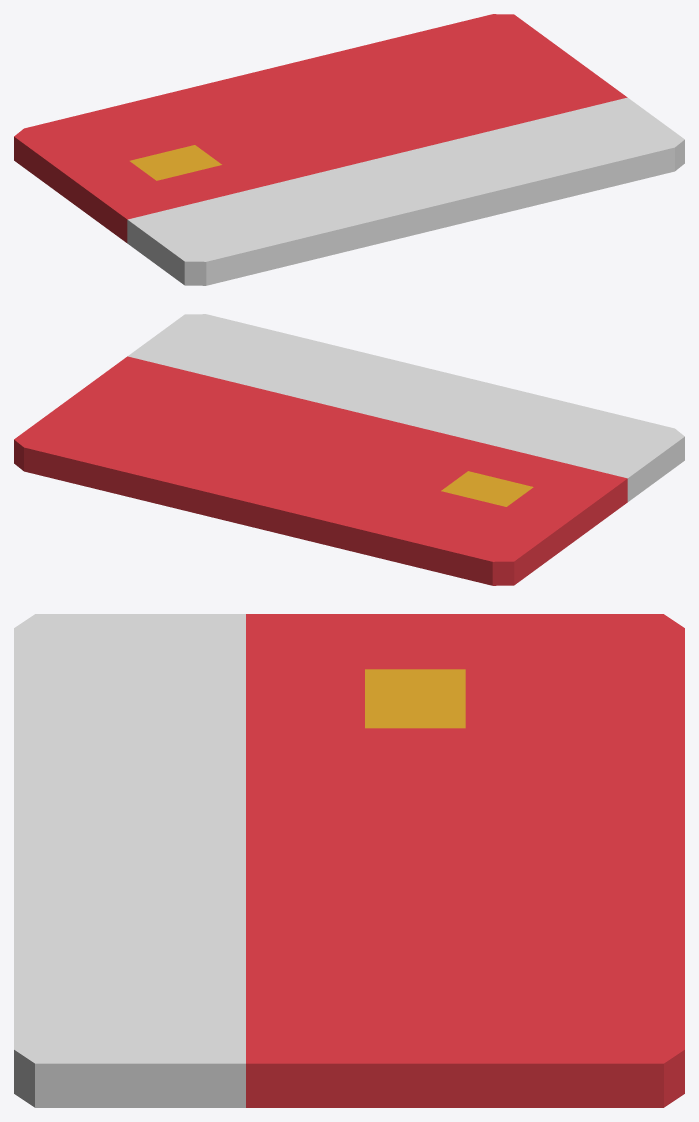
The model's file is card.fbx.
3 views of the same model, one above another, from view 1: azimuth 30°, elevation 25°; view 2: azimuth 150°, elevation 25°; view 3: azimuth 270°, elevation 25° (orthographic). The views are drawn at different scales.
Visible parts, largest first — view 1: Cube.001; view 2: Cube.001; view 3: Cube.001.
Boxes of the visible parts, box(x1,y1,x2,y2) form: Cube.001: box(14, 14, 684, 285); Cube.001: box(14, 314, 684, 585); Cube.001: box(14, 614, 684, 1107).
Bounding box in the file's own units: 17.12 × 0.7858 × 10.8.
